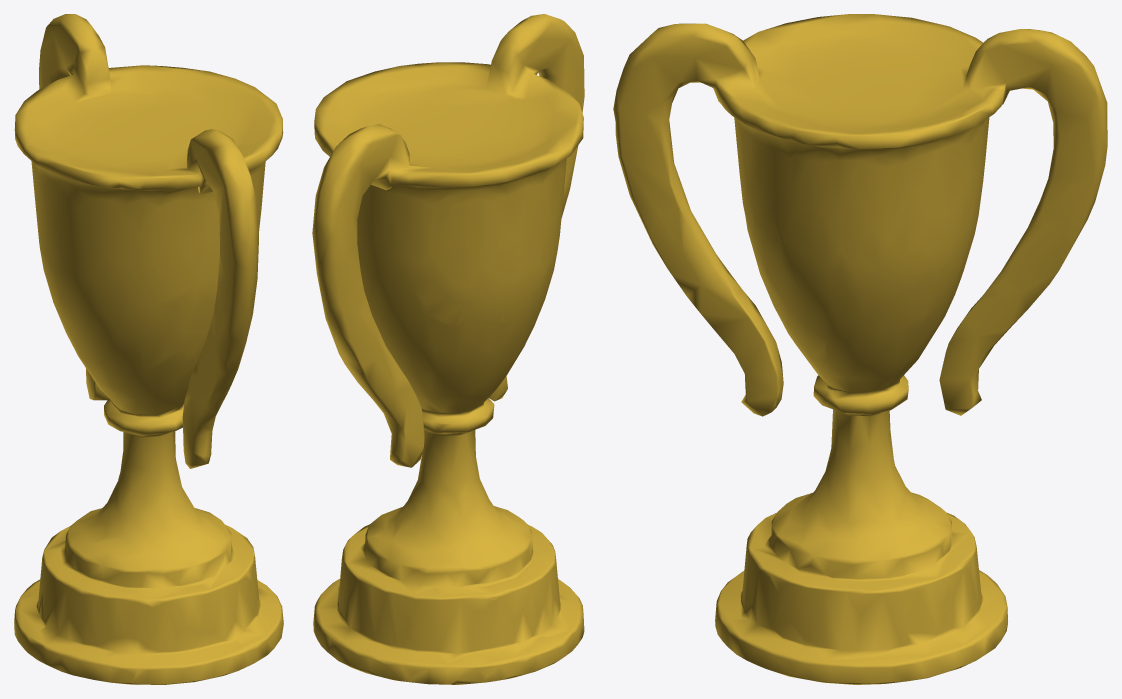
File: trophy.glb
3 renders of one model, left to right at view 1: azimuth 30°, elevation 25°; view 2: azimuth 150°, elevation 25°; view 3: azimuth 270°, elevation 25°, orthographic. The views are drawn at different scales.
Visible parts, largest first — view 1: tripo_node_4a250f1a-4f01-4573-a2a0-ae62c03048e8; view 2: tripo_node_4a250f1a-4f01-4573-a2a0-ae62c03048e8; view 3: tripo_node_4a250f1a-4f01-4573-a2a0-ae62c03048e8.
Part boxes in pixels (x1=…): tripo_node_4a250f1a-4f01-4573-a2a0-ae62c03048e8: x1=14, y1=14, x2=283, y2=684; tripo_node_4a250f1a-4f01-4573-a2a0-ae62c03048e8: x1=312, y1=14, x2=584, y2=684; tripo_node_4a250f1a-4f01-4573-a2a0-ae62c03048e8: x1=613, y1=14, x2=1107, y2=684.
Bounding box in the file's own units: 0.4434 × 1 × 0.749.
